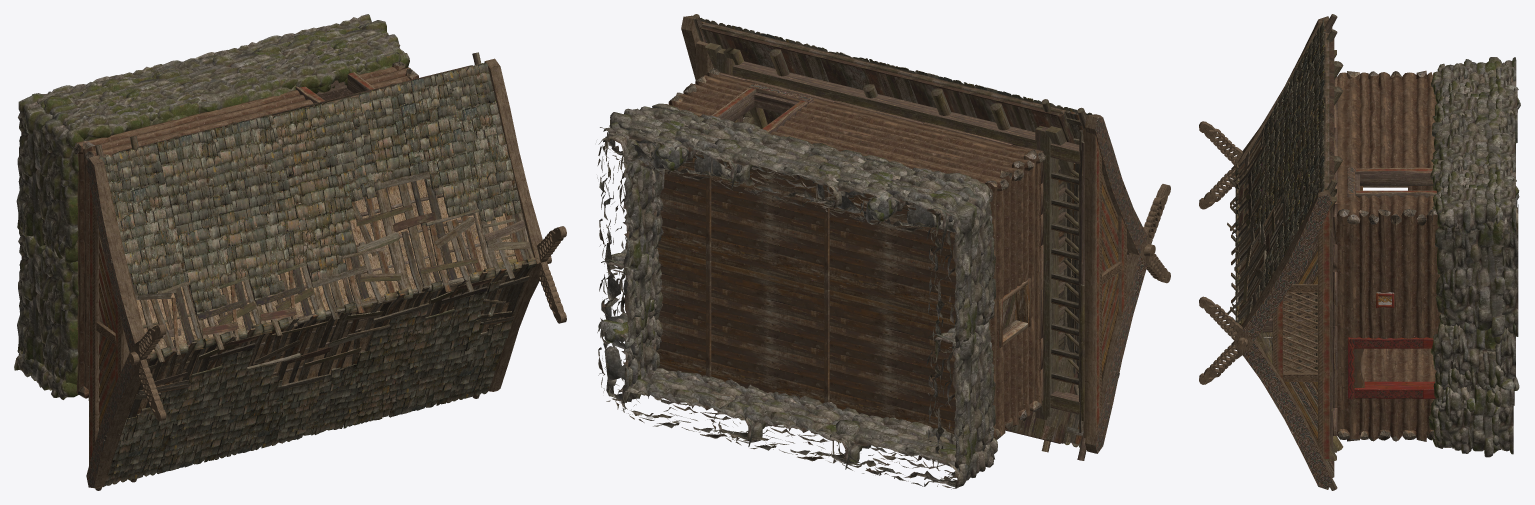
File: VIK_VIL_House_04A_G_002_Roof-transformed.glb
3 views of the same model, side by side, from view 1: azimuth 30°, elevation 25°; view 2: azimuth 150°, elevation 25°; view 3: azimuth 270°, elevation 25° (orthographic). The views are drawn at different scales.
Parts seen in each view (by area): view 1: VIK_VIL_House_04A_G_002_Roof; view 2: VIK_VIL_House_04A_G_002_Roof; view 3: VIK_VIL_House_04A_G_002_Roof.
Boxes of the visible parts, x1,y1,x2,y2 form: VIK_VIL_House_04A_G_002_Roof: (14,14,566,490); VIK_VIL_House_04A_G_002_Roof: (597,14,1170,489); VIK_VIL_House_04A_G_002_Roof: (1199,14,1520,490).
Size of the model in its own units: 0.144 by 0.1139 by 0.107.
18 materials, 18 textured.
